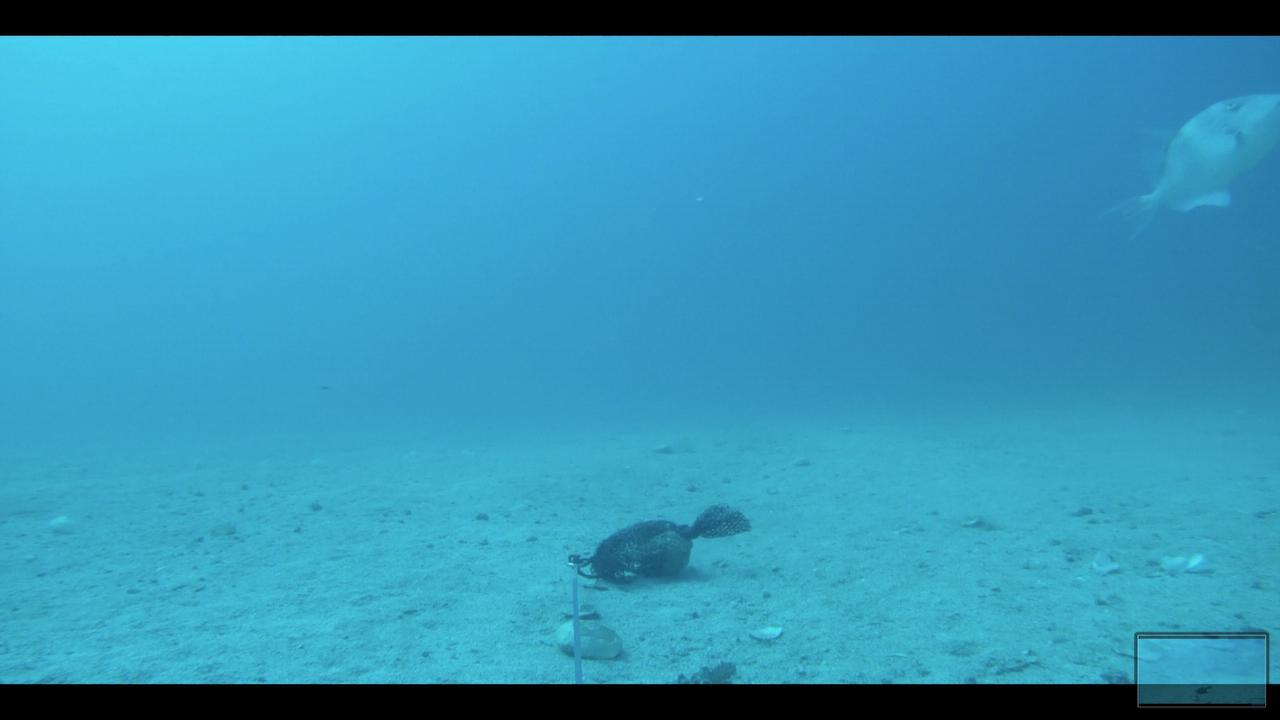balistes: (1094, 88, 1279, 248)
